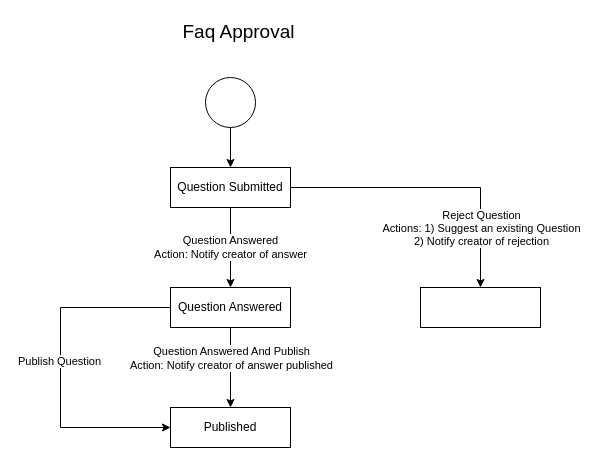
The diagram is 597 pixels wide and 465 high, and some of its shapes have lost their labels. The shapes that lost their labels are listed below. From the top down, each one's box as (x1, y1, x2, y2) in pixels, then its label:
(204, 76, 256, 128): start
(420, 286, 540, 328): Question Rejected
